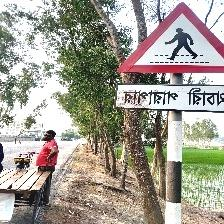Pedestrian-crossing: (113, 1, 223, 118)
